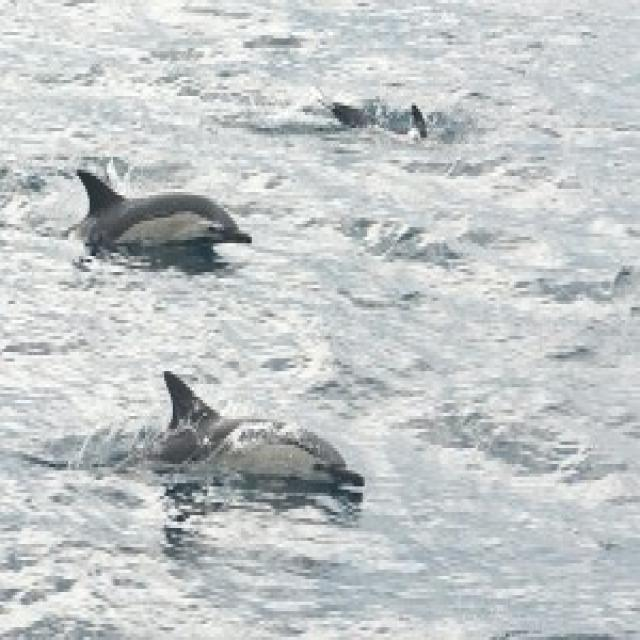Dolphin: (44, 361, 370, 509), (60, 166, 257, 262)
